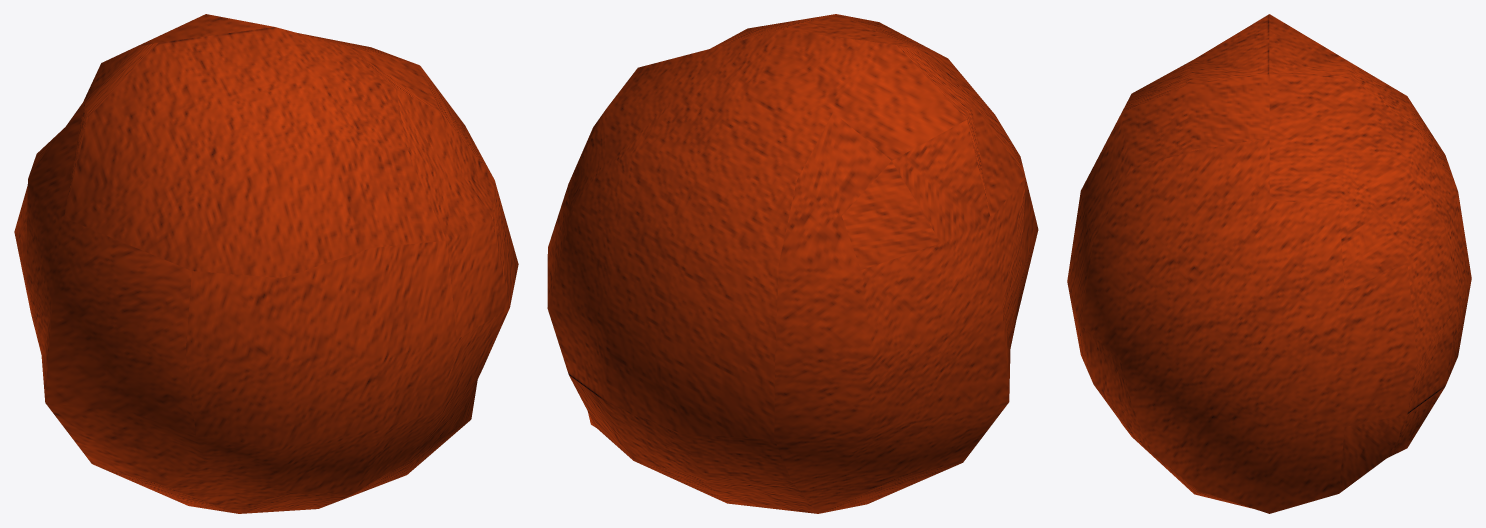
The model's file is stone.obj.
3 views of the same model, side by side, from view 1: azimuth 30°, elevation 25°; view 2: azimuth 150°, elevation 25°; view 3: azimuth 270°, elevation 25° (orthographic). The views are drawn at different scales.
Parts seen in each view (by area): view 1: Stone.011; view 2: Stone.011; view 3: Stone.011.
Part boxes in pixels (<box>): Stone.011: <box>14,14,518,513</box>; Stone.011: <box>547,14,1038,513</box>; Stone.011: <box>1067,14,1471,513</box>.
Bounding box in the file's own units: 0.932 × 0.9616 × 0.8433.
Materials: 1 (1 with a texture image).
